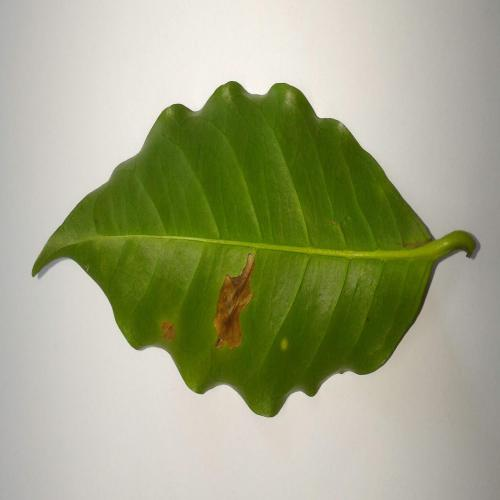leaf: (212, 252, 255, 349)
